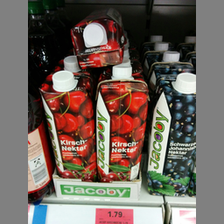juice: (40, 71, 96, 181), (96, 66, 149, 182), (147, 67, 196, 180), (71, 5, 125, 71)
